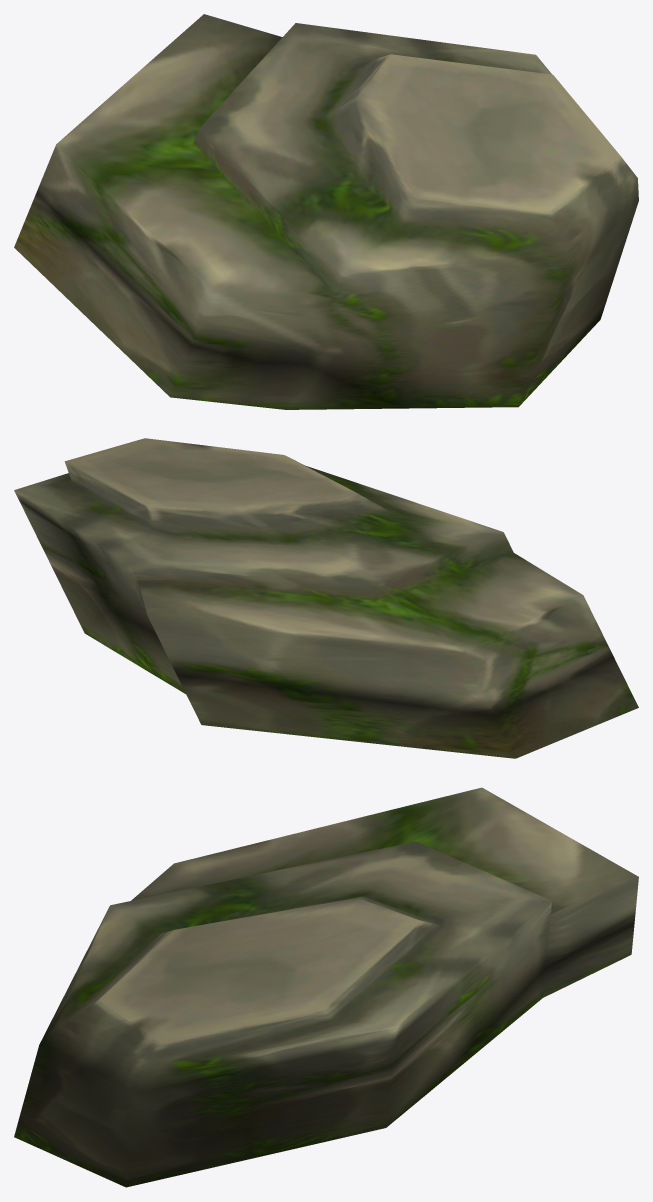
File: RockFormation_4_5 (54).fbx
3 renders of one model, top to bottom at view 1: azimuth 30°, elevation 25°; view 2: azimuth 150°, elevation 25°; view 3: azimuth 270°, elevation 25°, orthographic. The views are drawn at different scales.
Parts seen in each view (by area): view 1: RockFormation_4_5 (54); view 2: RockFormation_4_5 (54); view 3: RockFormation_4_5 (54).
Boxes of the visible parts, left/top/right/bottom form: RockFormation_4_5 (54): left=14, top=14, right=638, bottom=409; RockFormation_4_5 (54): left=14, top=438, right=638, bottom=758; RockFormation_4_5 (54): left=14, top=787, right=638, bottom=1187.
Bounding box in the file's own units: 348 × 144 × 335.
